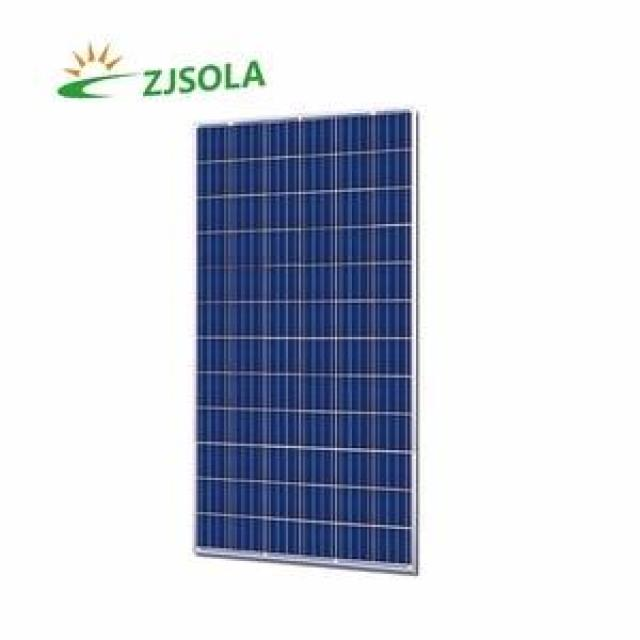clean-solar-panel: (194, 110, 420, 568)
